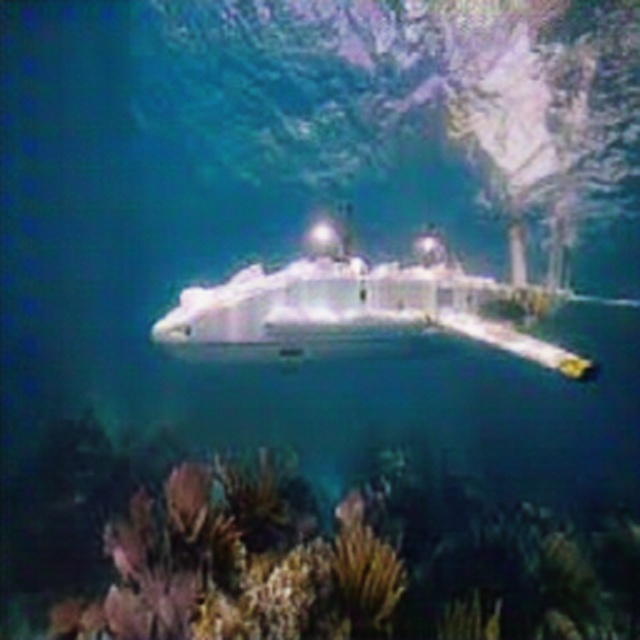submarine: (142, 219, 636, 407)
